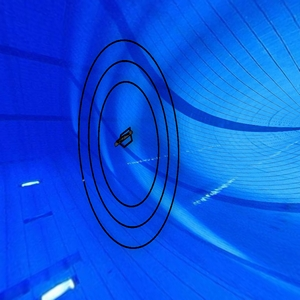circle: (76, 36, 184, 254)
submarine: (111, 123, 141, 157)
